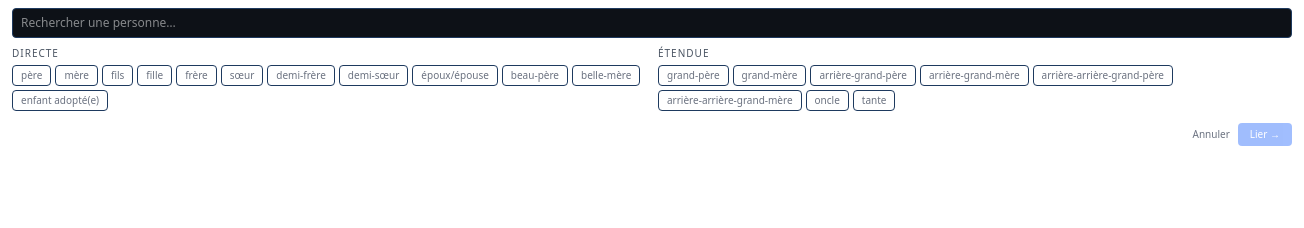
LinkPersonForm › shows error message when createRelationship returns error
Step 1. Type "paul" into the field with placeholder "Rechercher une personne…" → (652, 23), box [12,8,1292,38]
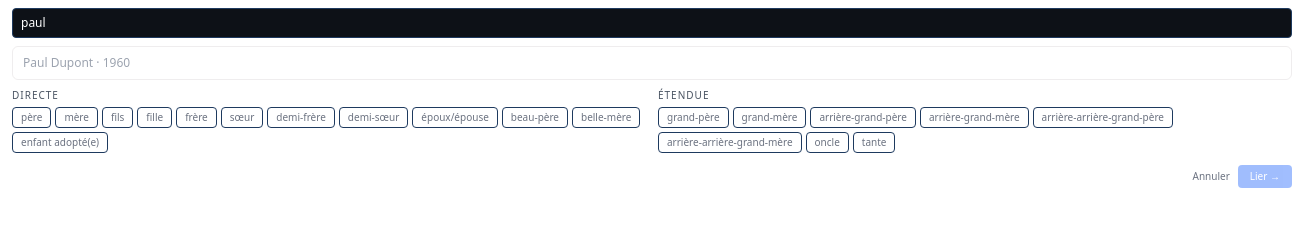
Step 2. Click the button "Paul Dupont · 1960" → (72, 62), box [15,49,1289,77]
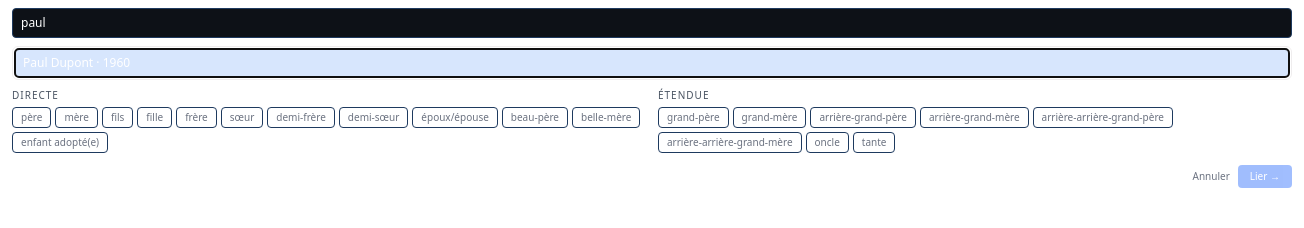
Step 3. Click the button "père" → (32, 118), box [12,107,51,128]
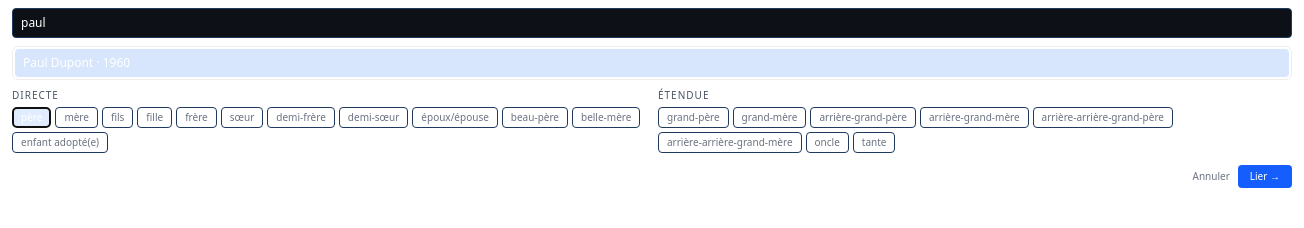
Step 4. Click the button "Lier →" → (1265, 176), box [1238,165,1292,188]
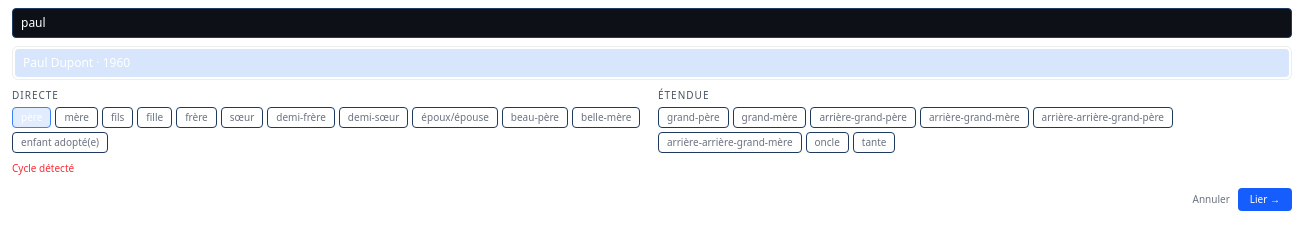
Expected: the text "Cycle détecté" is shown, [12,161,74,175]
